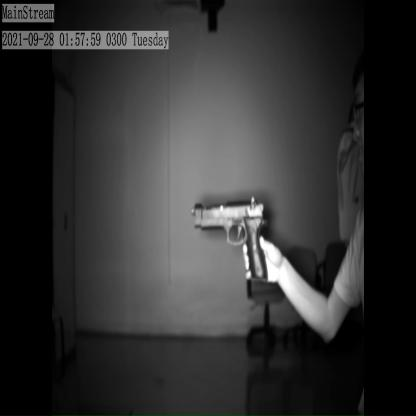weapon: (193, 190, 271, 285)
